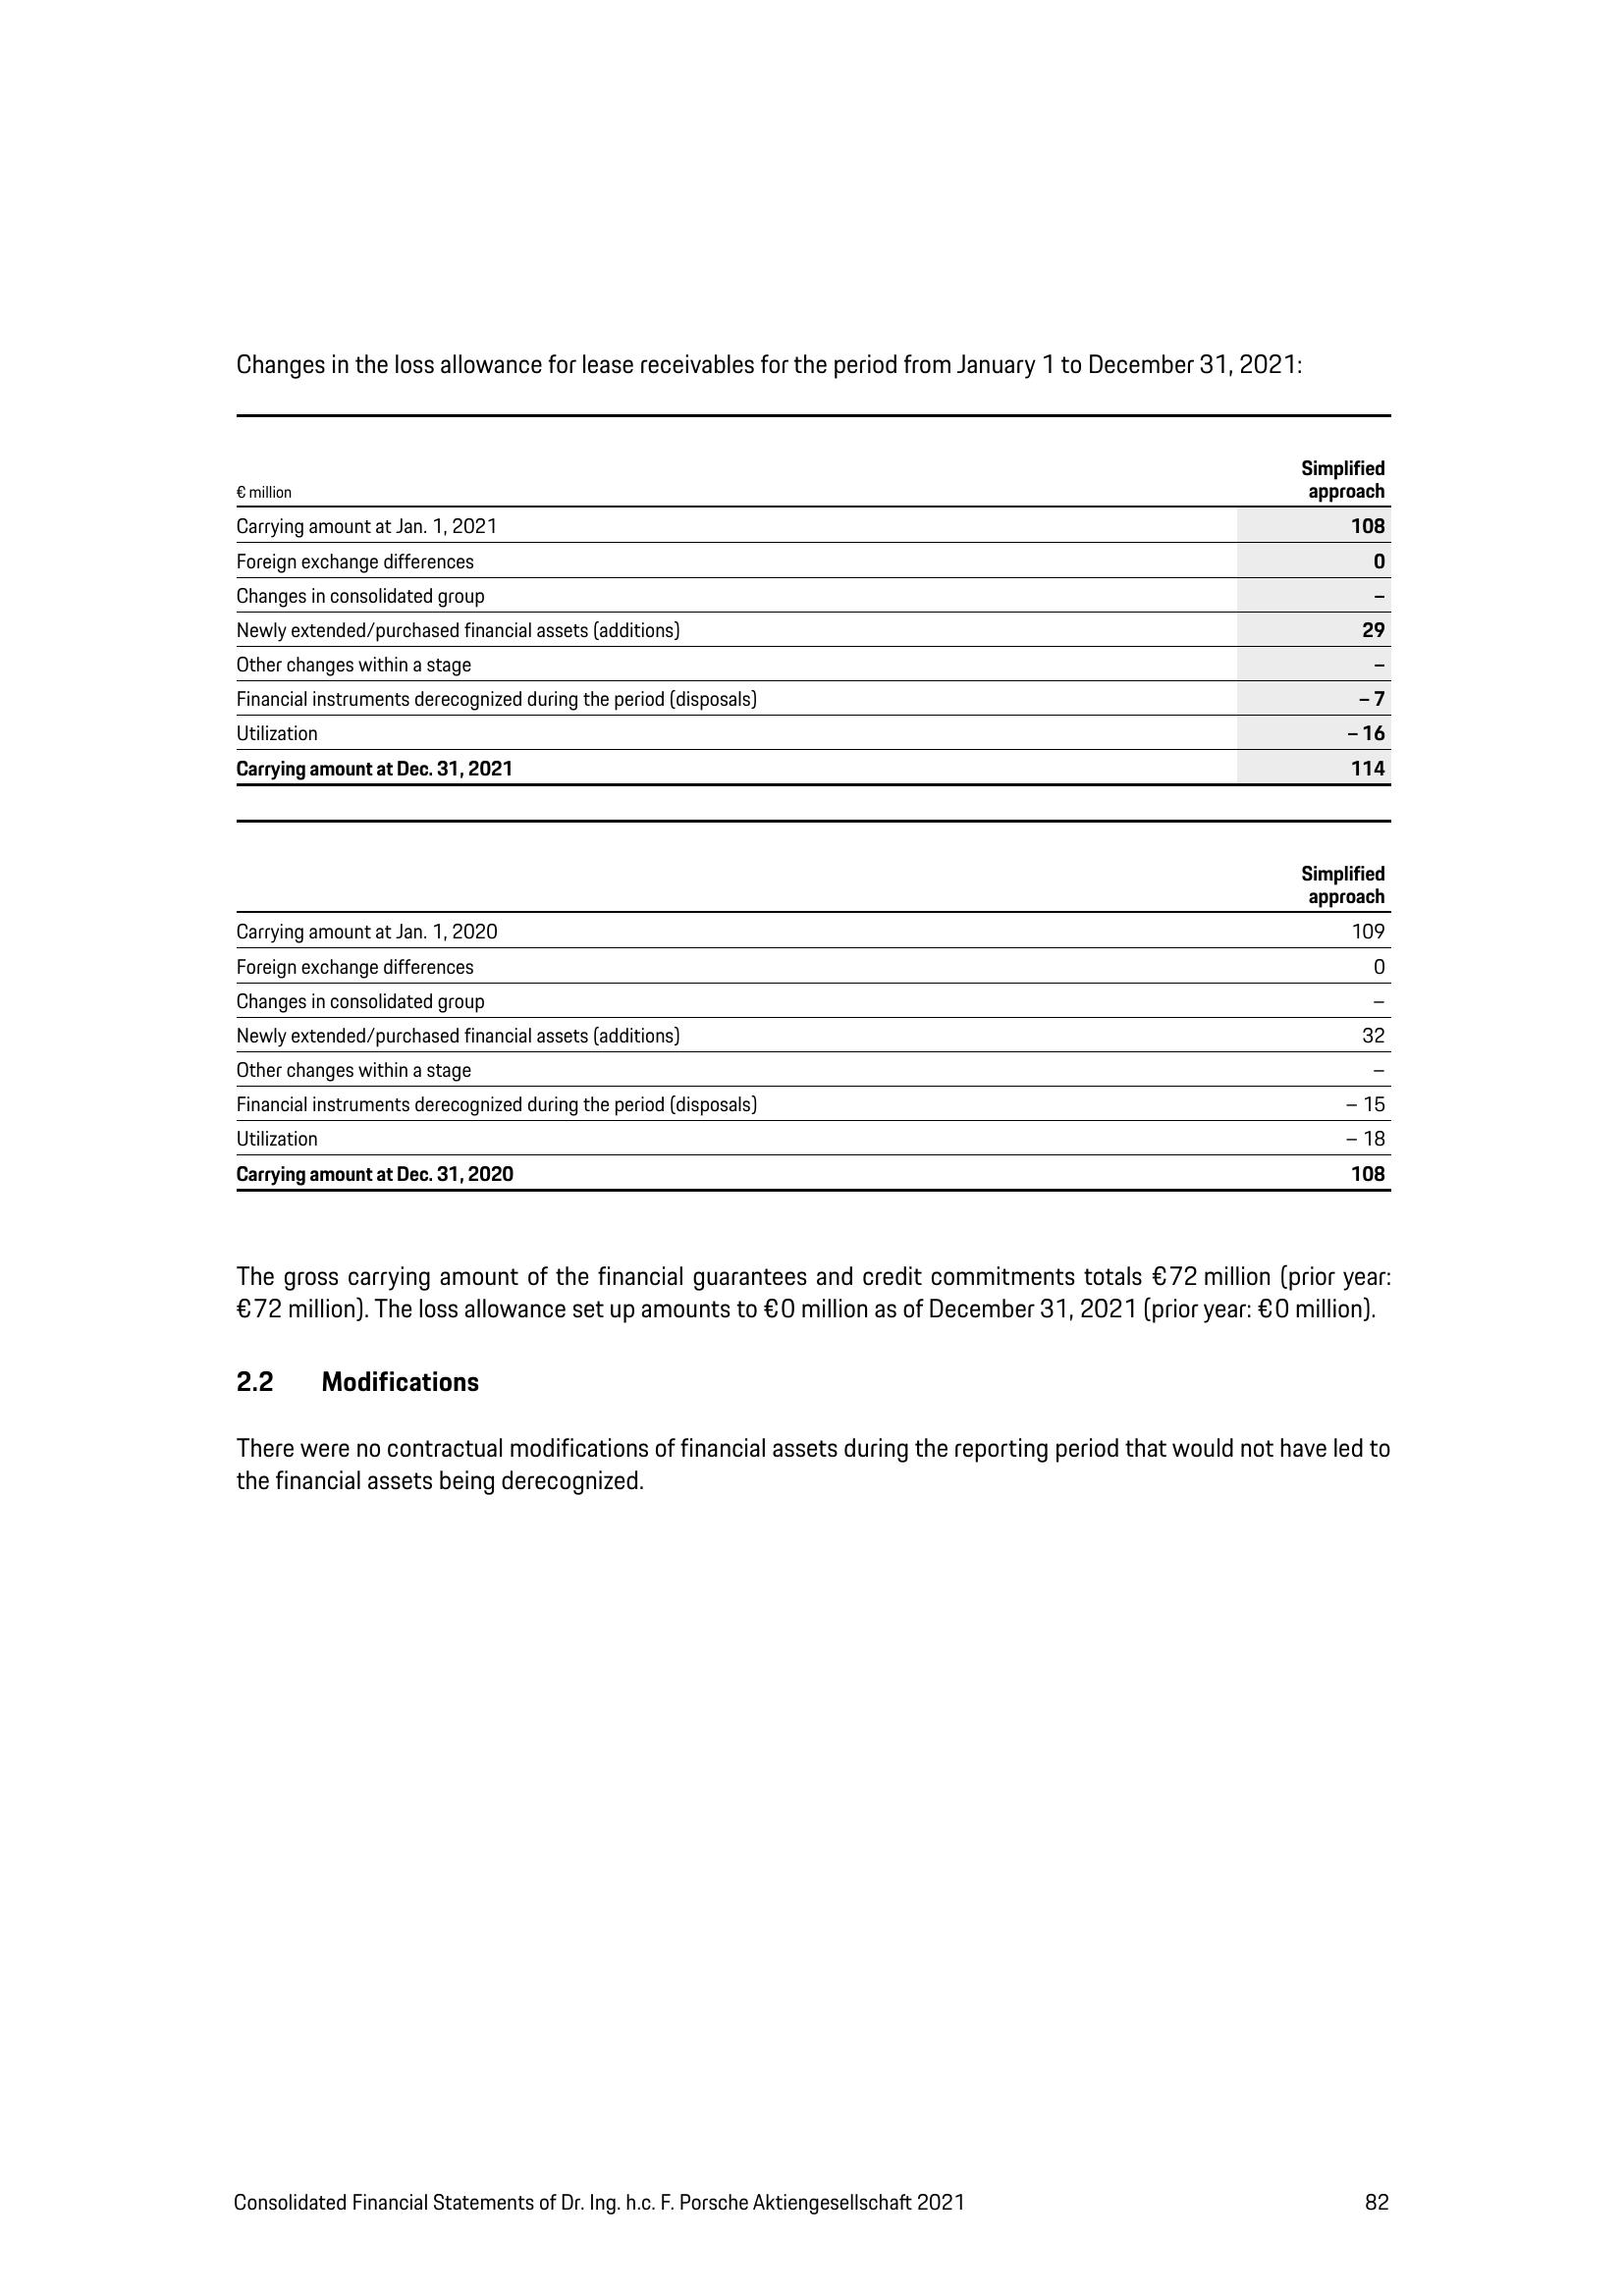Footer: (0, 2140, 1624, 2296)
Header: (0, 0, 1624, 260)
Table: (132, 408, 1408, 787), (123, 841, 1429, 1200)
